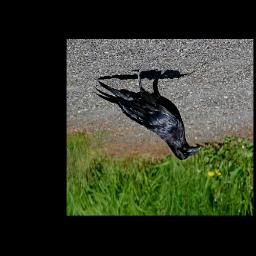Crow: (91, 65, 201, 161)
